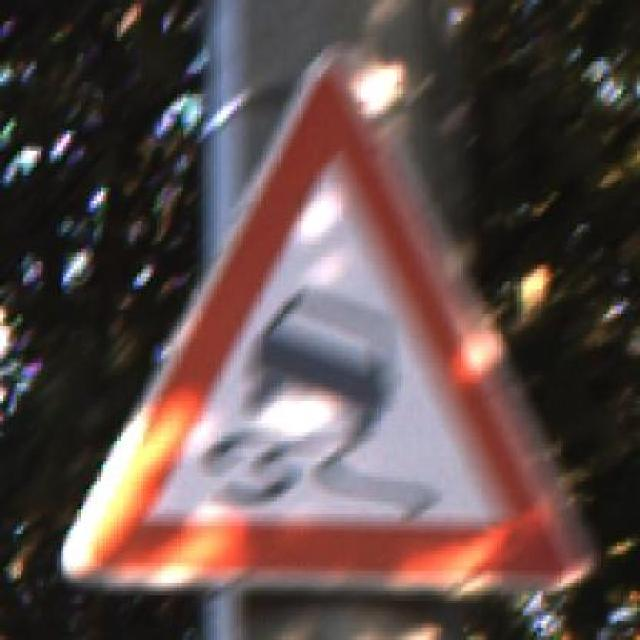Slippery Road Ahead: (43, 45, 597, 600)
